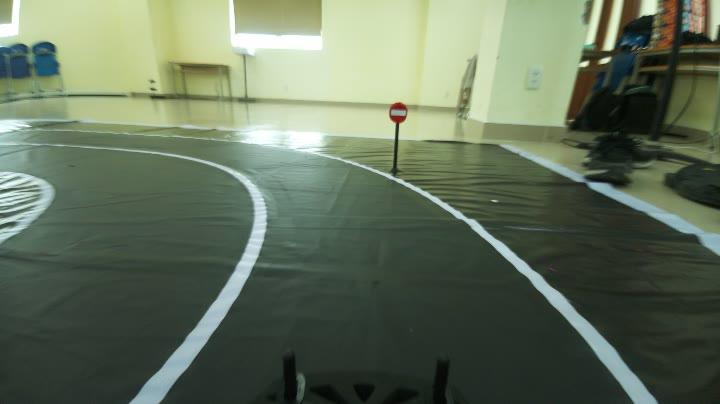no_entry: (383, 99, 409, 124)
